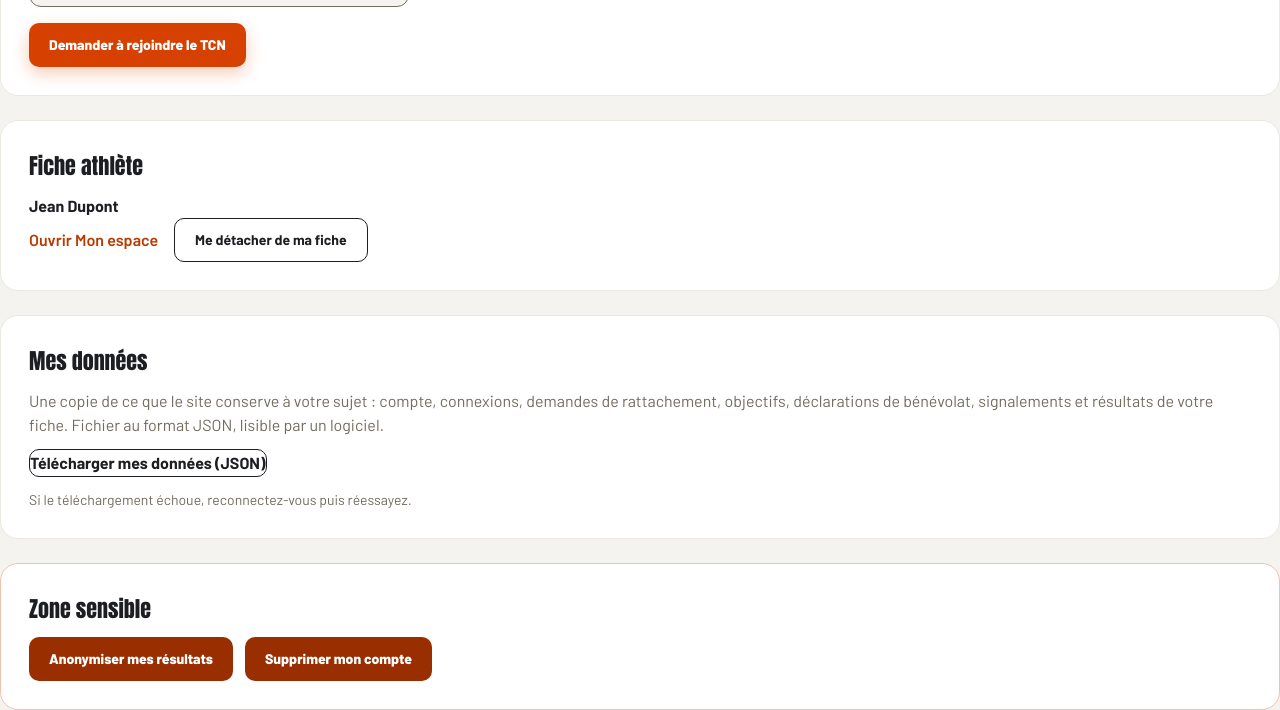
AccountPage: anonymise my results (#1673) › applies the opposition, then shows no linked record, a success message and focuses it
(page scrolled)
Click the button "Anonymiser mes résultats" at x=131, y=659, box [29, 637, 233, 681]
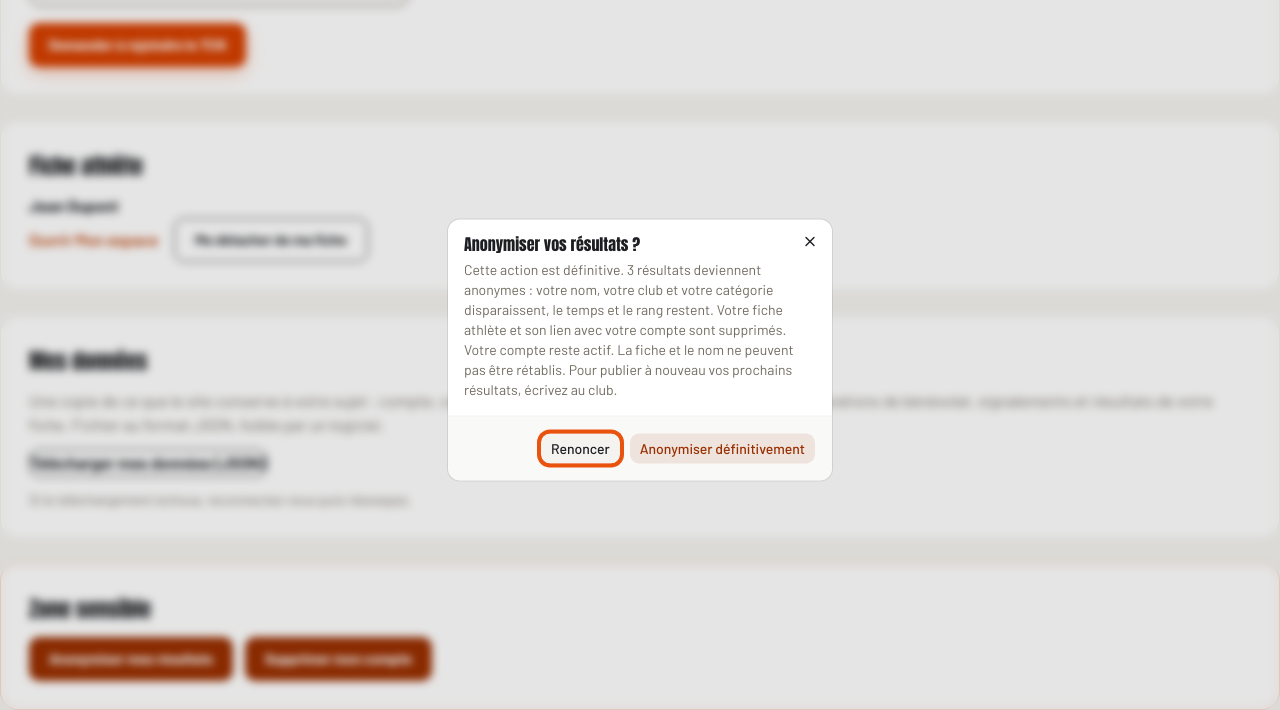
Now the button "Anonymiser définitivement" is enabled
Click the button "Anonymiser définitivement" at x=722, y=448, box [629, 432, 816, 464]
(page scrolled)
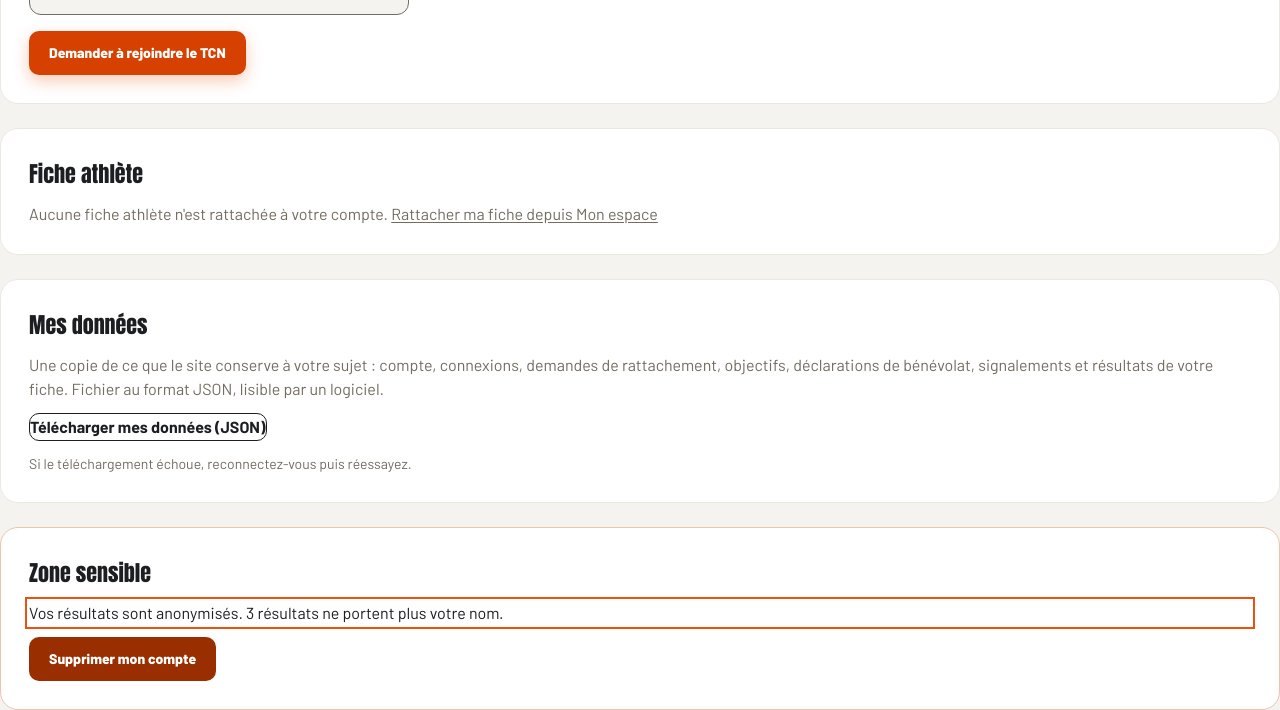
Now the text "Aucune fiche athlète n.est rattachée" is shown, box [29, 204, 388, 223]
Now the message reads "Vos résultats sont anonymisés. 3 résultats ne portent plus votre nom.", box [29, 603, 504, 622]
Now the button "Anonymiser mes résultats" is gone
